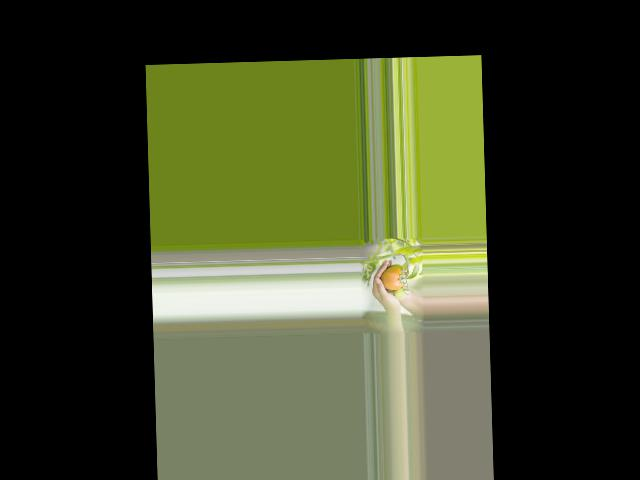tomato: (381, 267, 405, 290)
